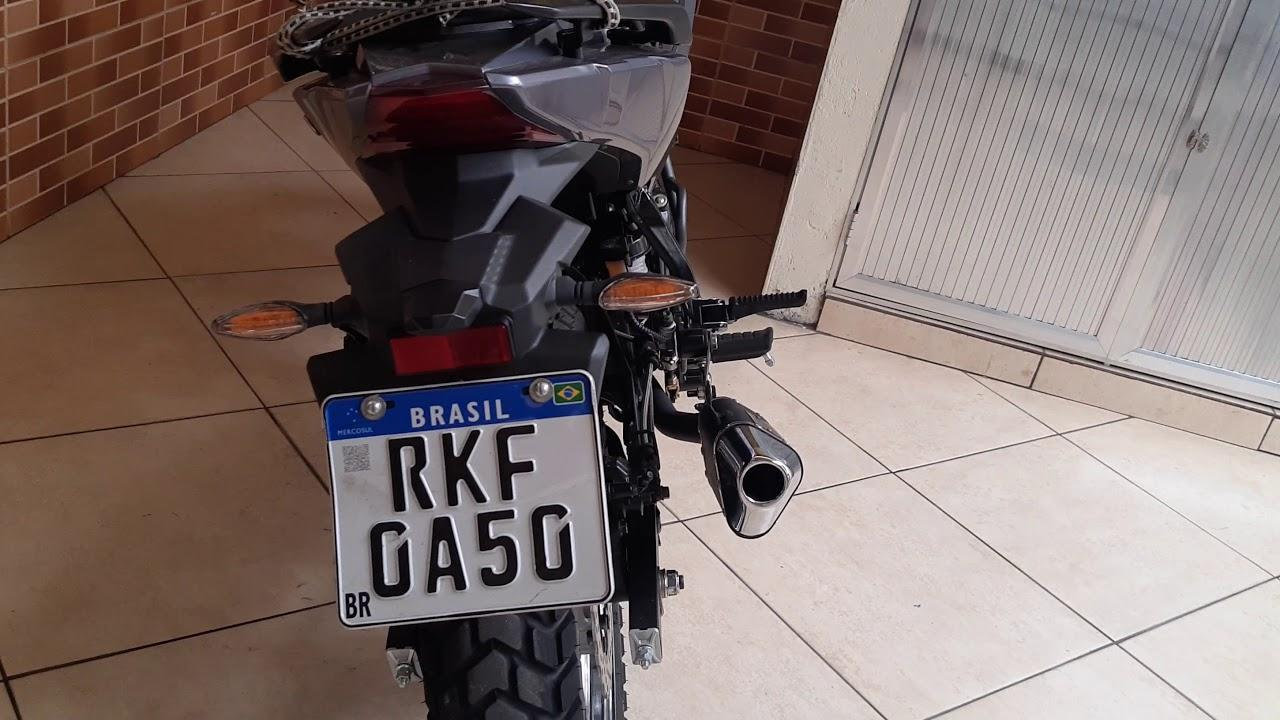placa de veiculo: (274, 361, 662, 635)
